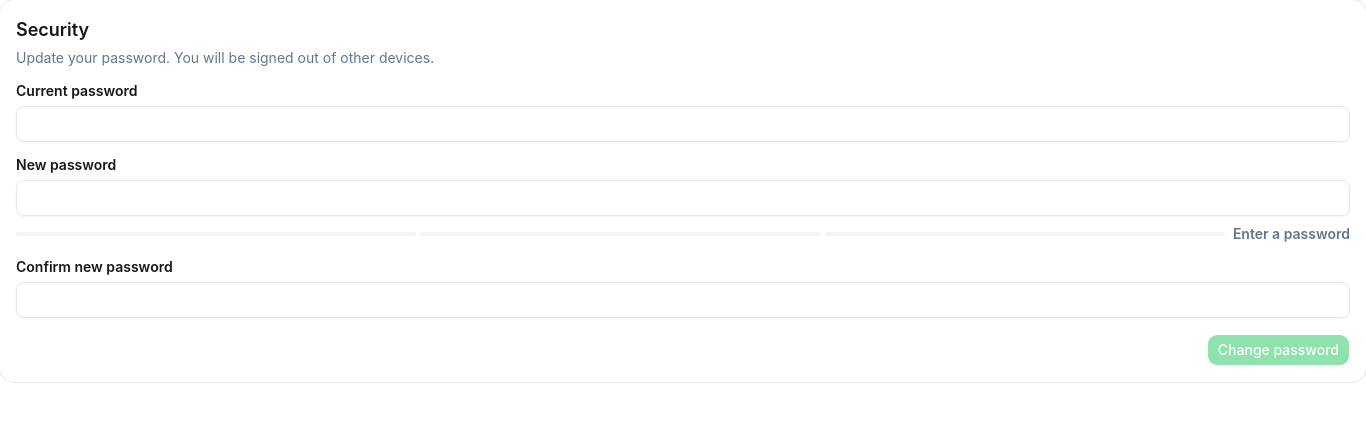
Test: AccountSecuritySection › validates confirmPassword matches newPassword with error copy "Passwords do not match."
Step 1. Type "oldSecret1" into the password field labelled "Current password" → (683, 124), box [16,106,1350,142]
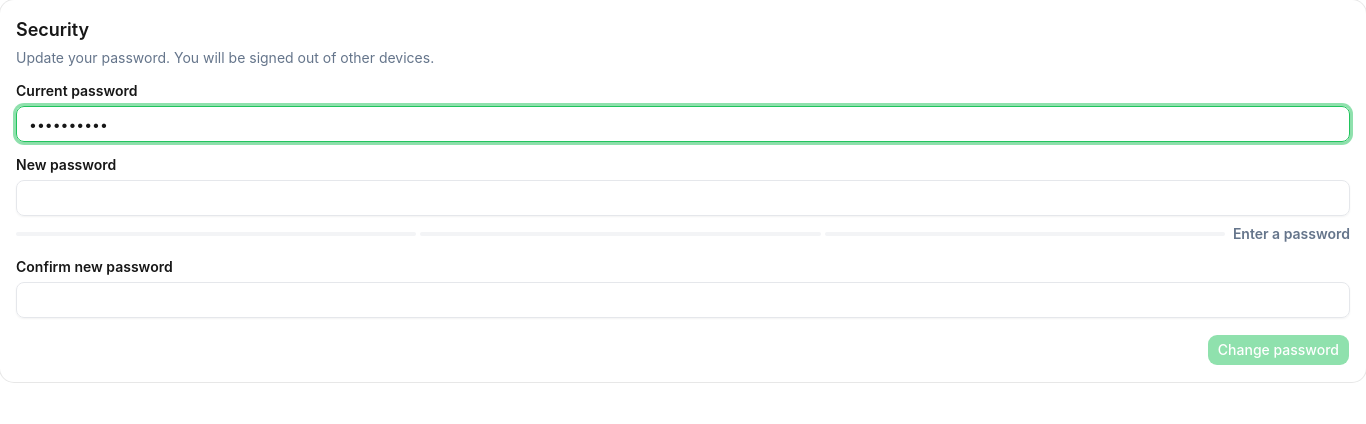
Step 2. Type "newSecret99" into the password field labelled "New password" → (683, 198), box [16,180,1350,216]
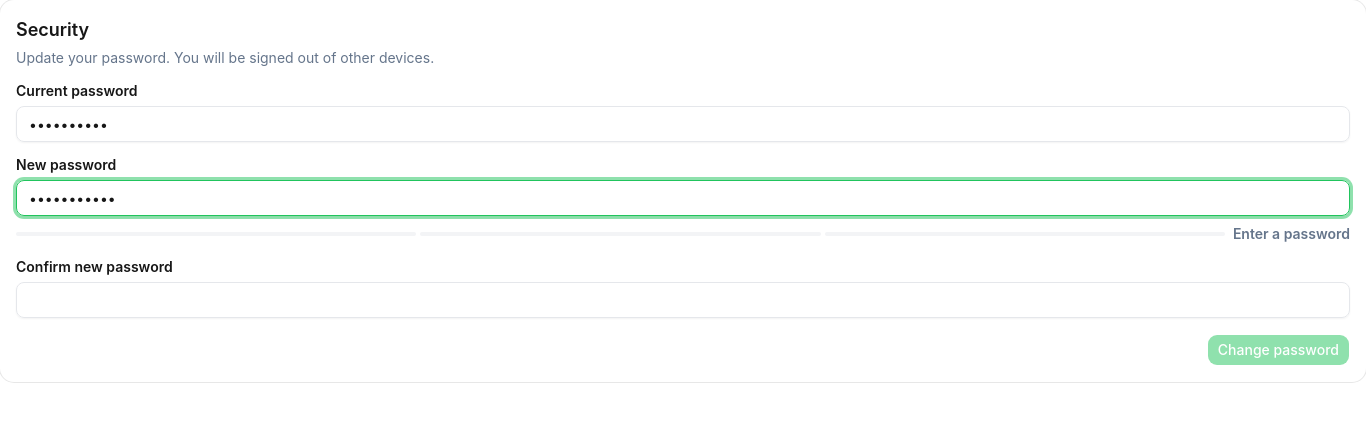
Step 3. Type "different99" into the password field labelled "Confirm new password" → (683, 300), box [16,282,1350,318]
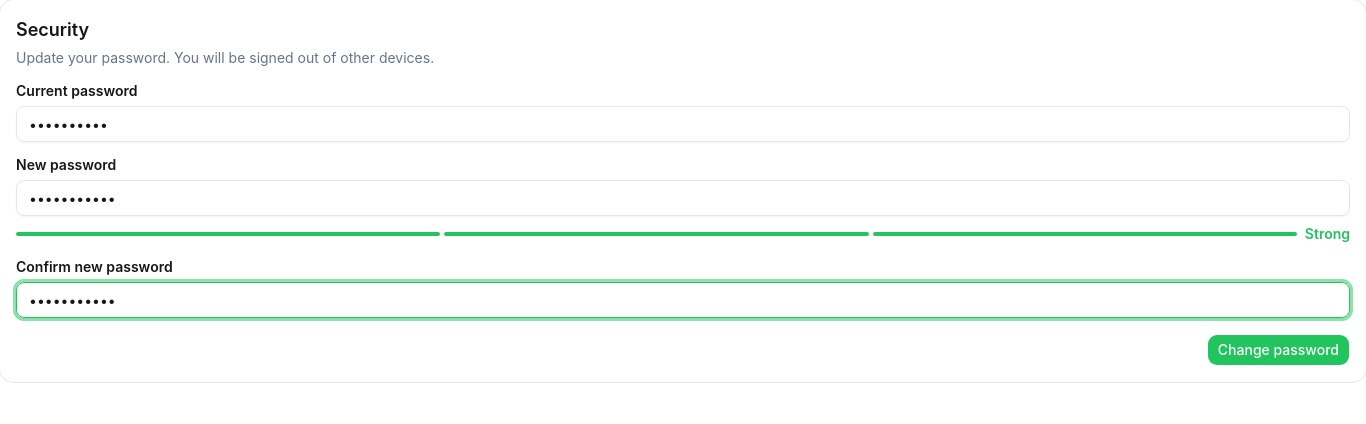
Step 4. Press Tab
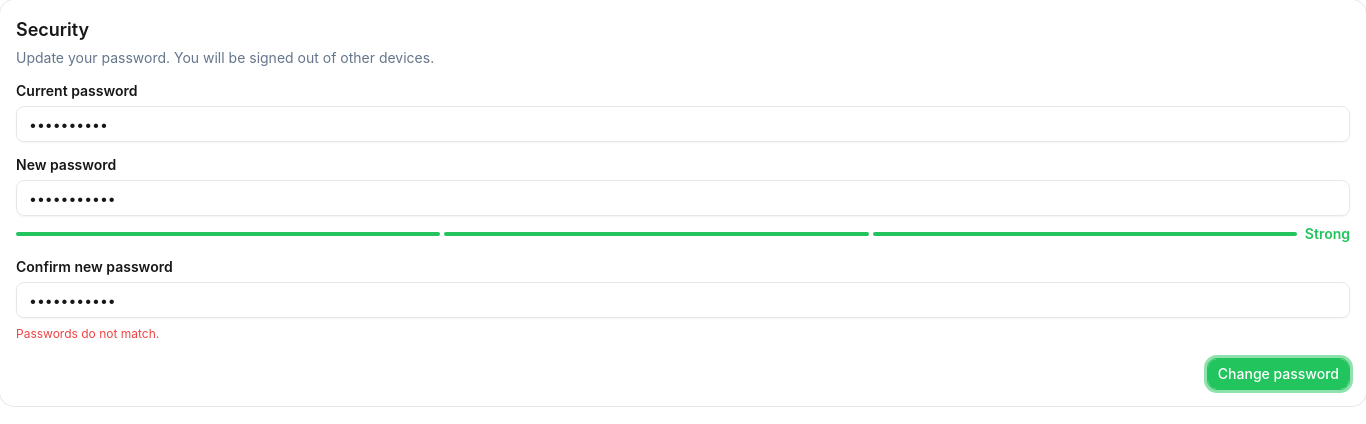
Now the text "Passwords do not match." is shown, box [16,326,159,341]
